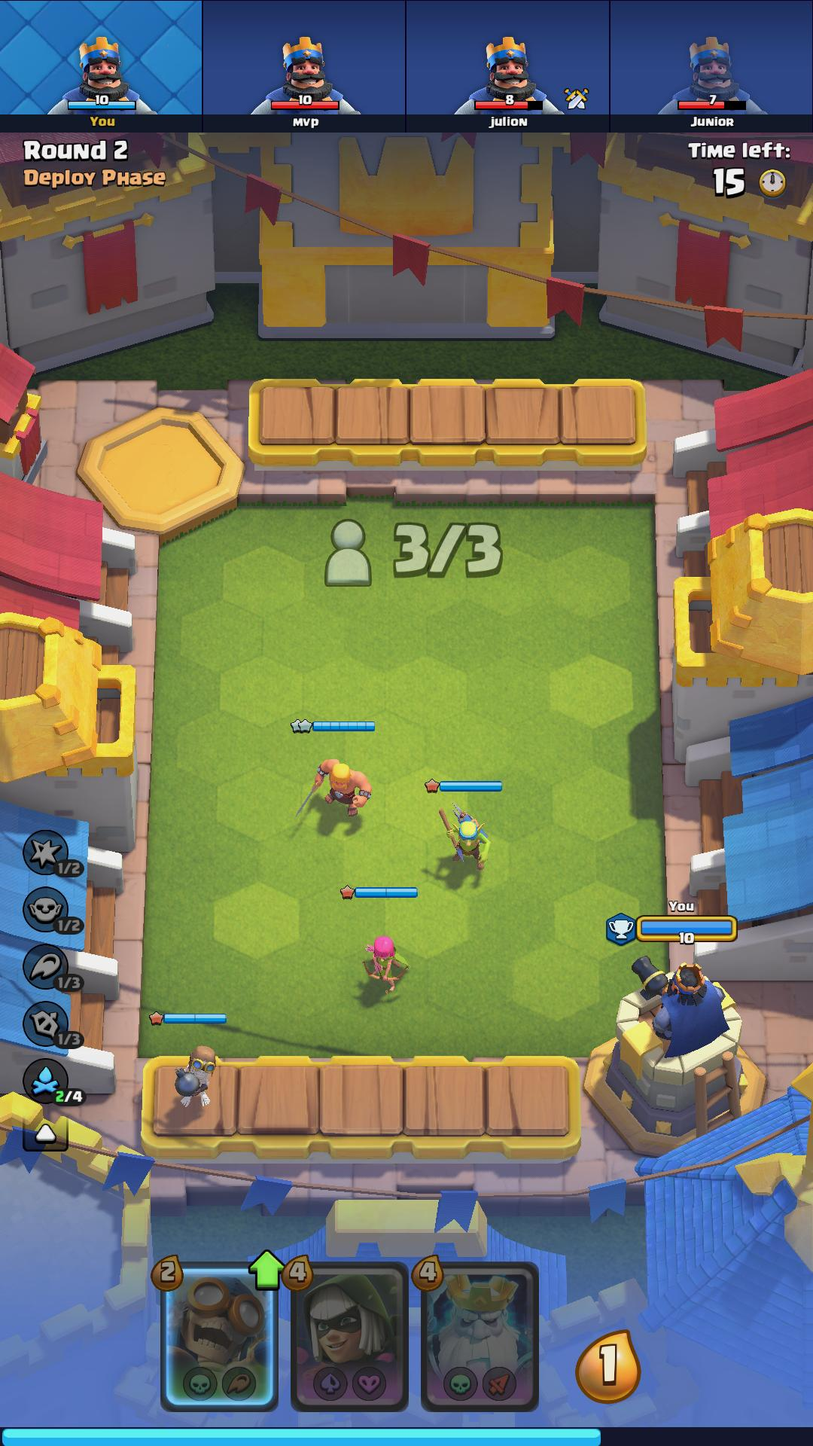archer: (343, 927, 413, 998)
barbarian: (288, 752, 379, 826)
bomber: (160, 1034, 235, 1115)
hand-bandit: (292, 1262, 409, 1411)
hand-bomber: (159, 1263, 274, 1406)
hand-ghost: (421, 1265, 538, 1408)
spear: (427, 796, 511, 875)
upgrade: (247, 1247, 289, 1291)
